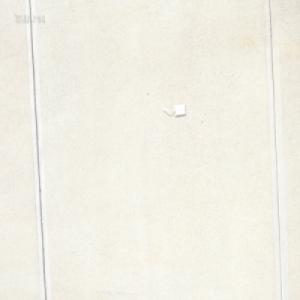LuggageTag: (162, 102, 186, 118)
